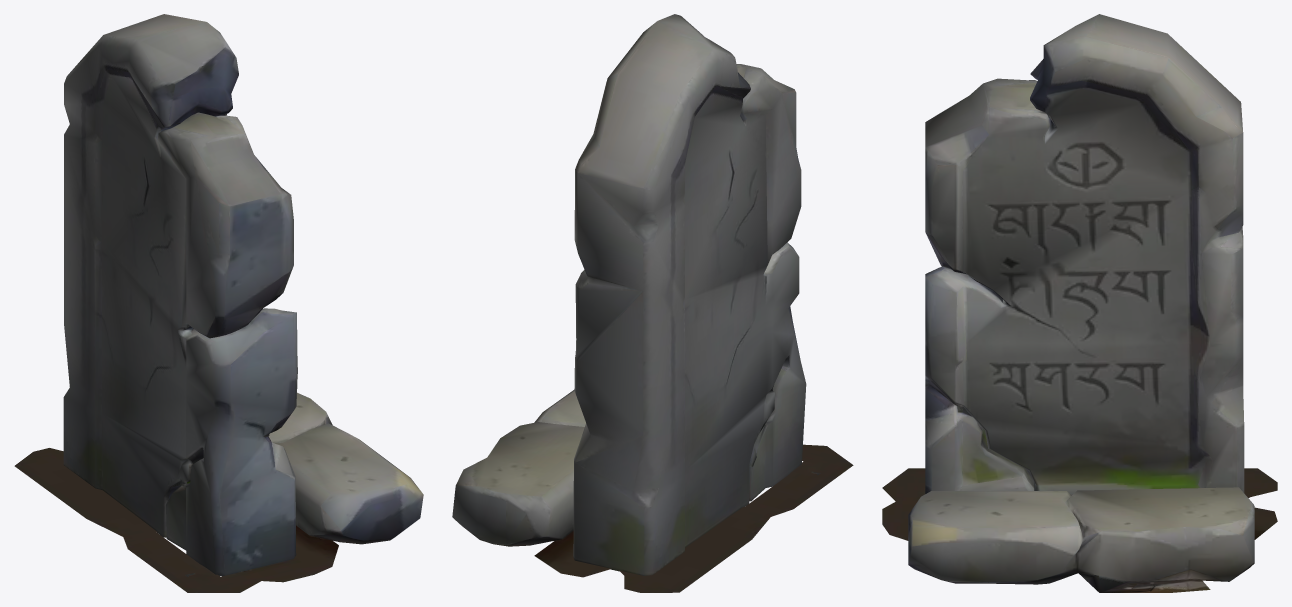
The model's file is marsh_shrine_fragment.glb.
3 views of the same model, side by side, from view 1: azimuth 30°, elevation 25°; view 2: azimuth 150°, elevation 25°; view 3: azimuth 270°, elevation 25° (orthographic).
Visible parts, largest first — view 1: tripo_node_cb241d21-7dc6-4340-9f85-40e2186a1824; view 2: tripo_node_cb241d21-7dc6-4340-9f85-40e2186a1824; view 3: tripo_node_cb241d21-7dc6-4340-9f85-40e2186a1824.
Boxes of the visible parts, bbox=[...] form: tripo_node_cb241d21-7dc6-4340-9f85-40e2186a1824: bbox=[14, 14, 423, 592]; tripo_node_cb241d21-7dc6-4340-9f85-40e2186a1824: bbox=[452, 14, 853, 592]; tripo_node_cb241d21-7dc6-4340-9f85-40e2186a1824: bbox=[882, 14, 1277, 592].
Size of the model in its own units: 0.4949 by 0.9 by 0.664.
1 material, 1 textured.
